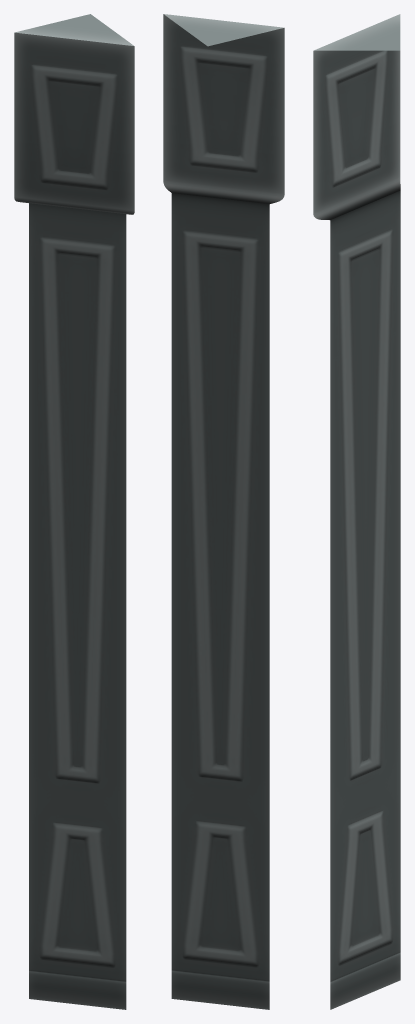
File: StreetStoreFront01_4.FBX
3 views of the same model, side by side, from view 1: azimuth 30°, elevation 25°; view 2: azimuth 210°, elevation 25°; view 3: azimuth 270°, elevation 25° (orthographic). The views are drawn at different scales.
Parts seen in each view (by area): view 1: StreetStoreFront01_4; view 2: StreetStoreFront01_4; view 3: StreetStoreFront01_4.
Boxes of the visible parts, x1=… form: StreetStoreFront01_4: x1=14, y1=14, x2=134, y2=1009; StreetStoreFront01_4: x1=163, y1=14, x2=284, y2=1009; StreetStoreFront01_4: x1=313, y1=14, x2=400, y2=1009.
Size of what is drawn, in the model's own units: 0.3512 by 4.25 by 0.3512.
